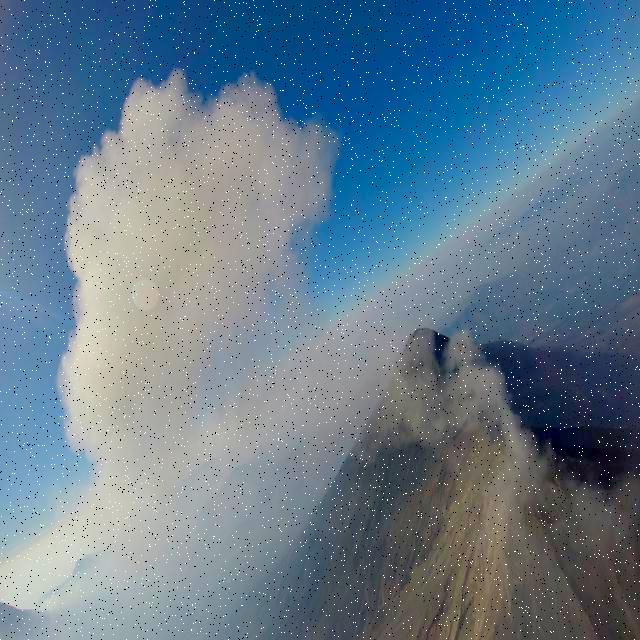Plume: (49, 49, 343, 522)
